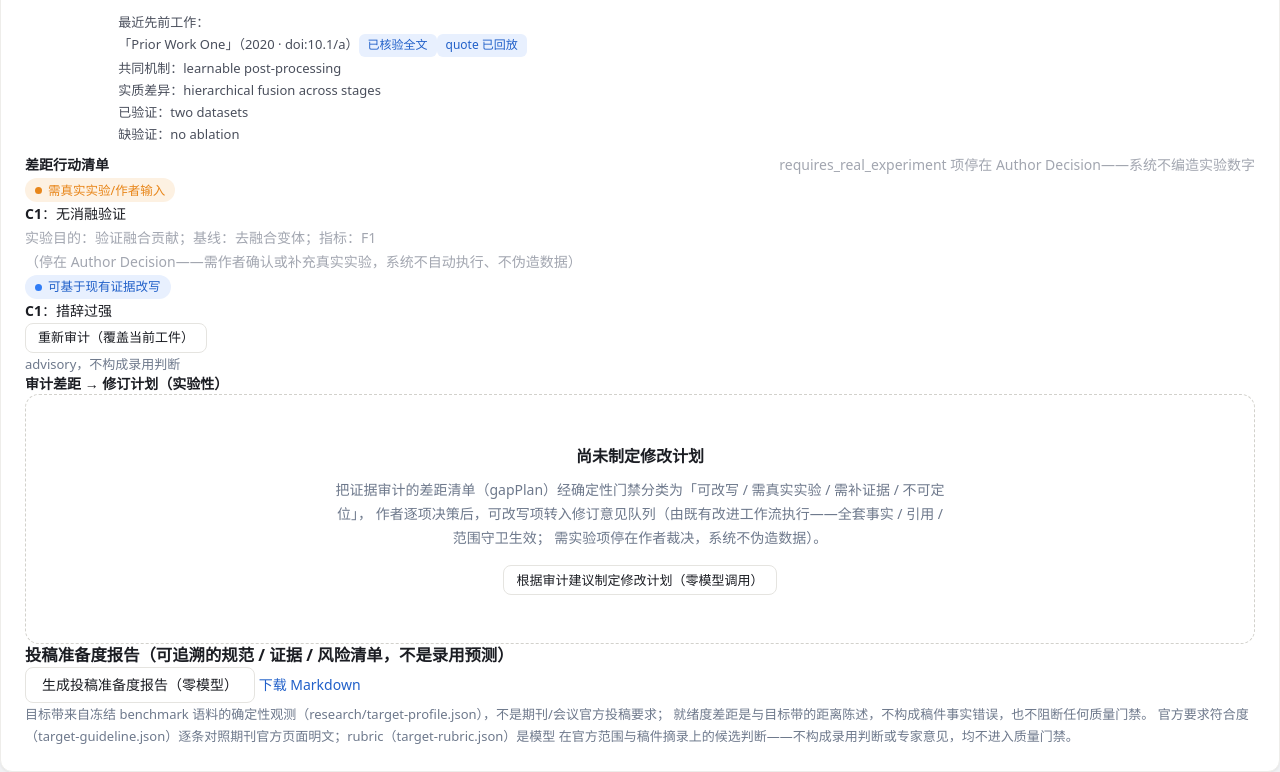
Test: TargetPanel › M15.18 投稿准备度：flag off 不渲染；flag on 点击生成 → 报告（风险 / 局限 / 免责声明）+ 下载链接
(page scrolled)
Click the button with test id "target-readiness-generate".
click(140, 684)  # box [25,666,255,702]
(page scrolled)
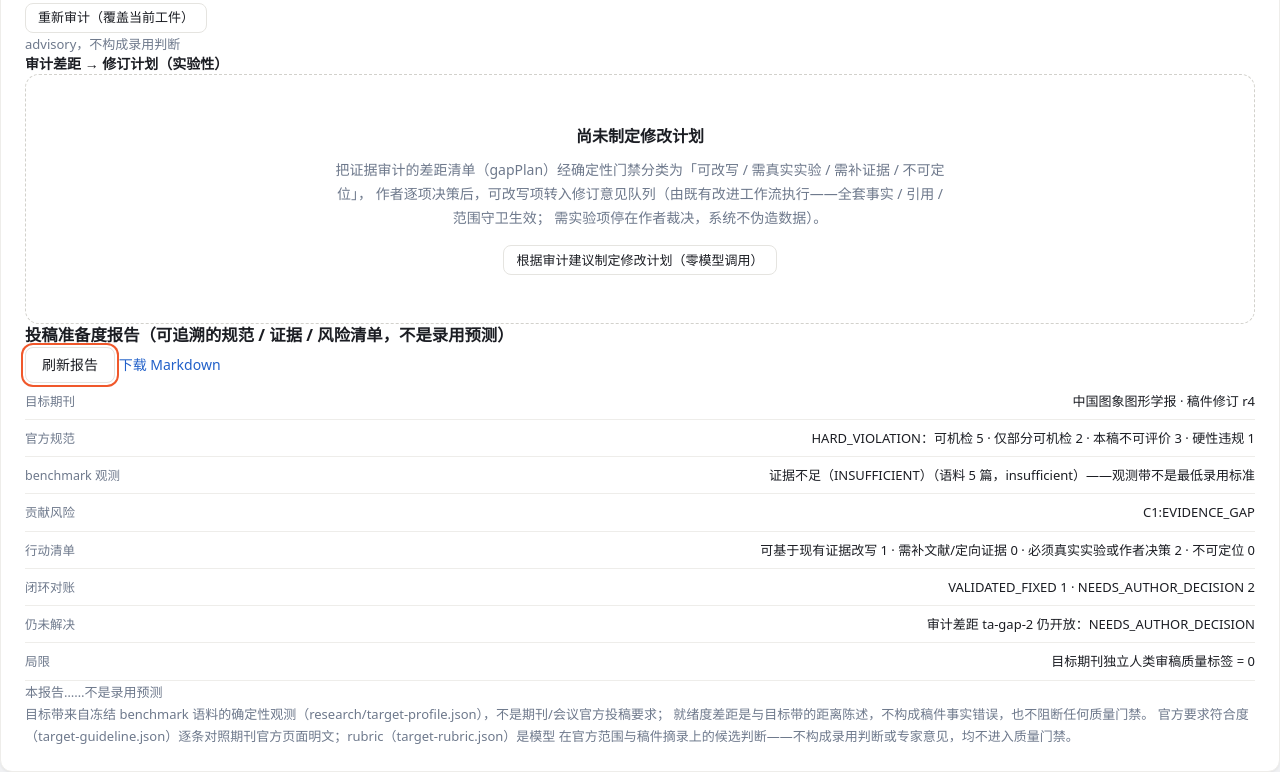
Expected: the element with test id "target-readiness-report" shows "本稿不可评价 3", [812,429,1255,447]
Expected: the element with test id "target-readiness-report" shows "必须真实实验或作者决策 2", [760,540,1255,558]
Expected: the element with test id "target-readiness-report" shows "VALIDATED_FIXED 1", [948,578,1255,596]
